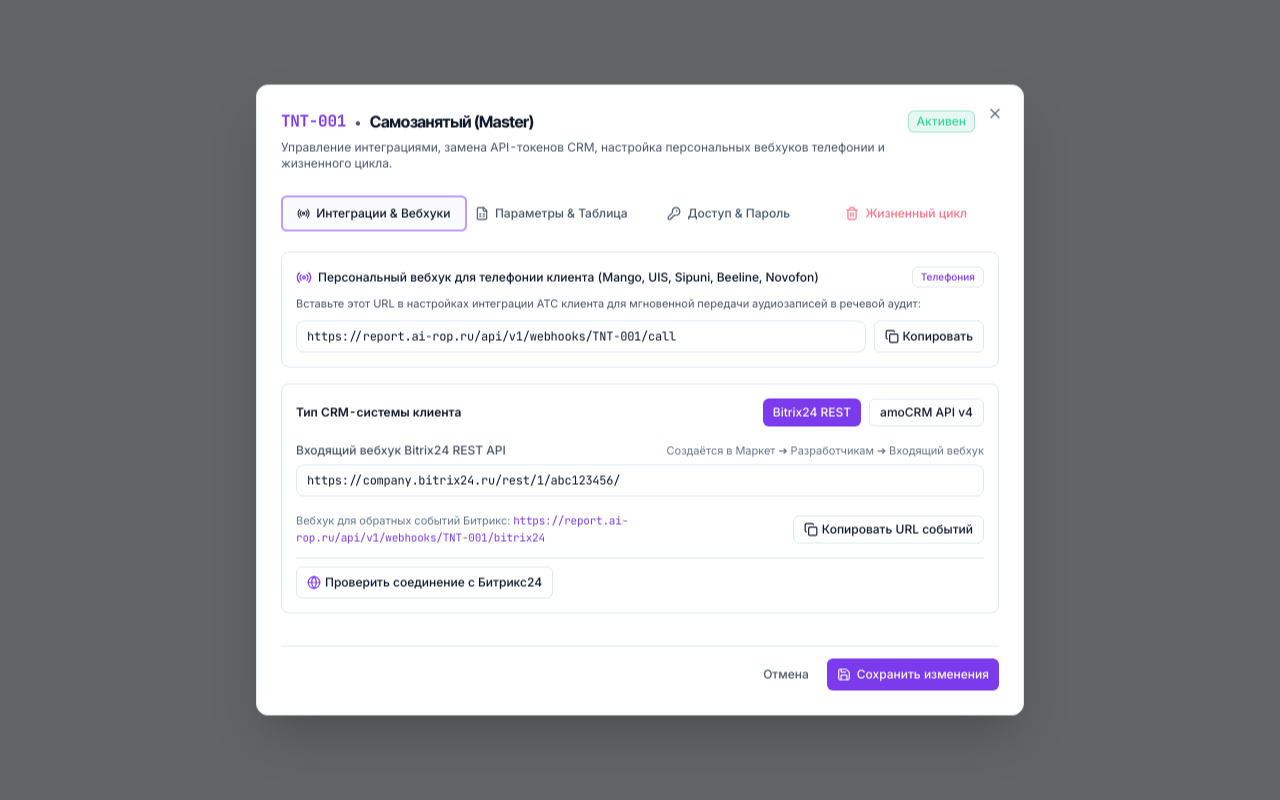
it: TenantEditModal › switches between CRM types (Bitrix24 <-> amoCRM)
What coordinates should you click on to do the following:
click the button "amoCRM API v4"
I would click on:
 (927, 412)
Its box is top-left (869, 398), bottom-right (984, 426).
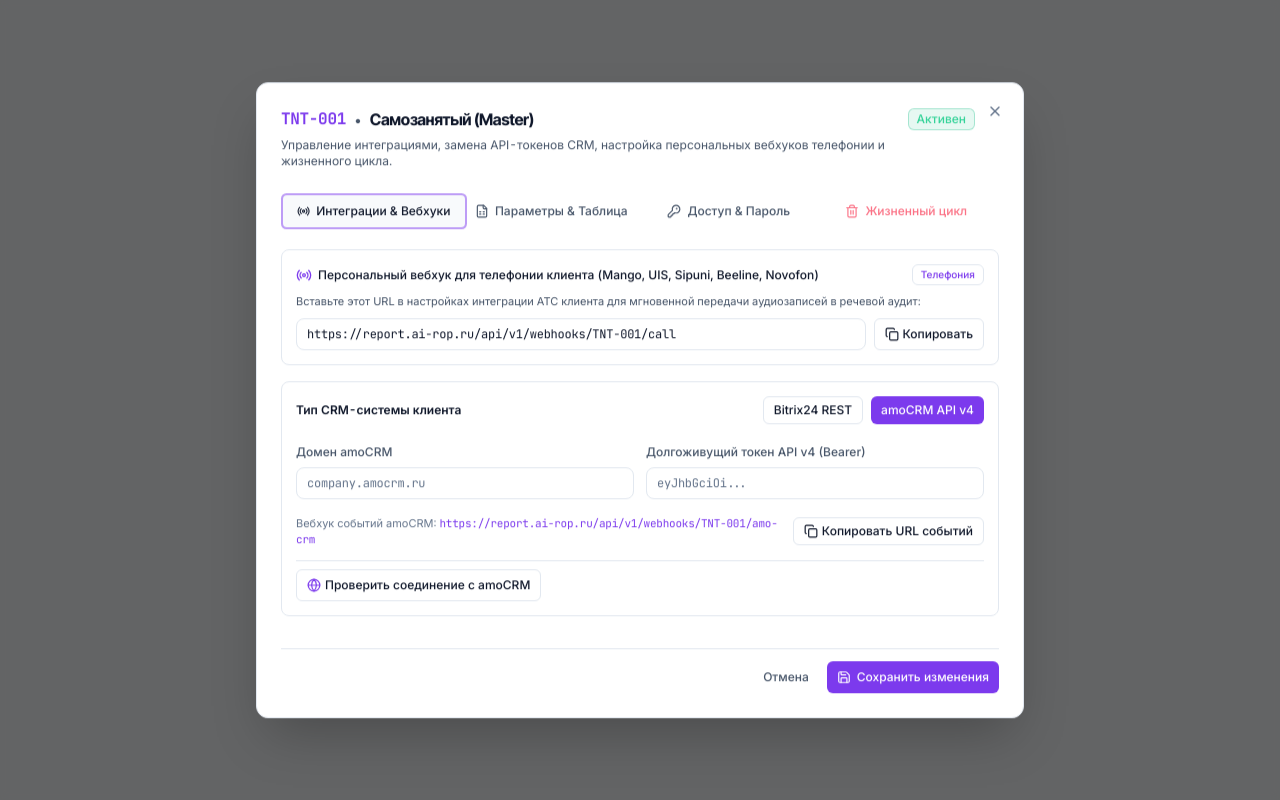
Expected: the text "Домен amoCRM" is shown, top-left (296, 444), bottom-right (392, 459)
Expected: the text "Долгоживущий токен API v4 (Bearer)" is shown, top-left (646, 444), bottom-right (866, 459)
